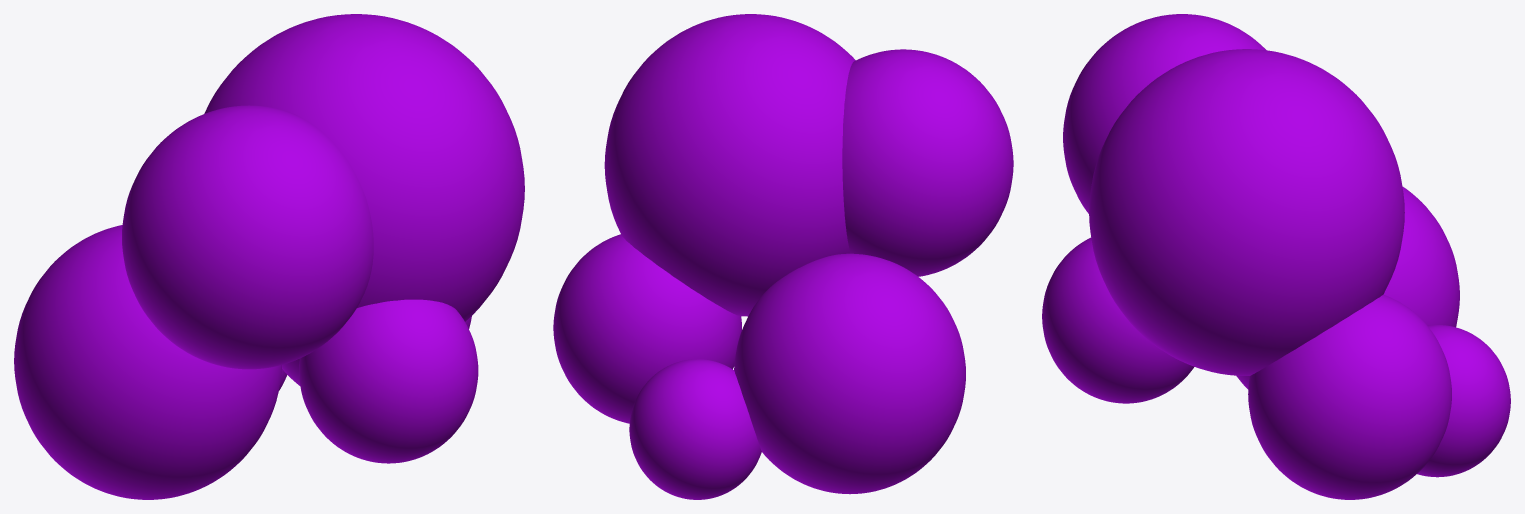
The model's file is br-m-balls-purple.fbx.
3 views of the same model, side by side, from view 1: azimuth 30°, elevation 25°; view 2: azimuth 150°, elevation 25°; view 3: azimuth 270°, elevation 25° (orthographic). The views are drawn at different scales.
Visible parts, largest first — view 1: pSphere4, pSphere2, pSphere5, pSphere8; view 2: pSphere2, pSphere5, pSphere4, pSphere3, pSphere6; view 3: pSphere2, pSphere3, pSphere8, pSphere4, pSphere6, pSphere5.
Part boxes in pixels (bbox=[...]): pSphere4: bbox=[122, 105, 373, 369]; pSphere2: bbox=[204, 14, 524, 321]; pSphere5: bbox=[14, 225, 281, 499]; pSphere8: bbox=[299, 299, 478, 463]; pSphere2: bbox=[604, 14, 855, 316]; pSphere5: bbox=[734, 253, 965, 494]; pSphere4: bbox=[842, 49, 1013, 276]; pSphere3: bbox=[553, 234, 741, 423]; pSphere6: bbox=[629, 359, 761, 499]; pSphere2: bbox=[1089, 49, 1404, 375]; pSphere3: bbox=[1248, 294, 1451, 499]; pSphere8: bbox=[1042, 237, 1194, 403]; pSphere4: bbox=[1063, 14, 1266, 213]; pSphere6: bbox=[1417, 325, 1510, 477]; pSphere5: bbox=[1236, 186, 1459, 389].
Size of the model in its own units: 0.9986 by 0.9976 by 0.994.
